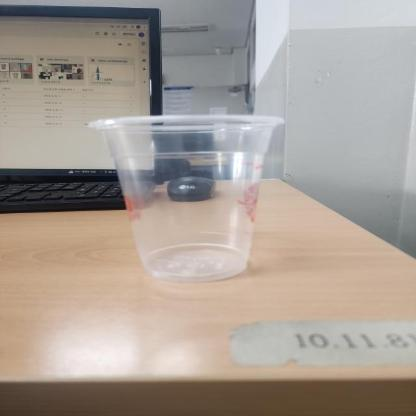Plastic Cup: (88, 115, 288, 280)
